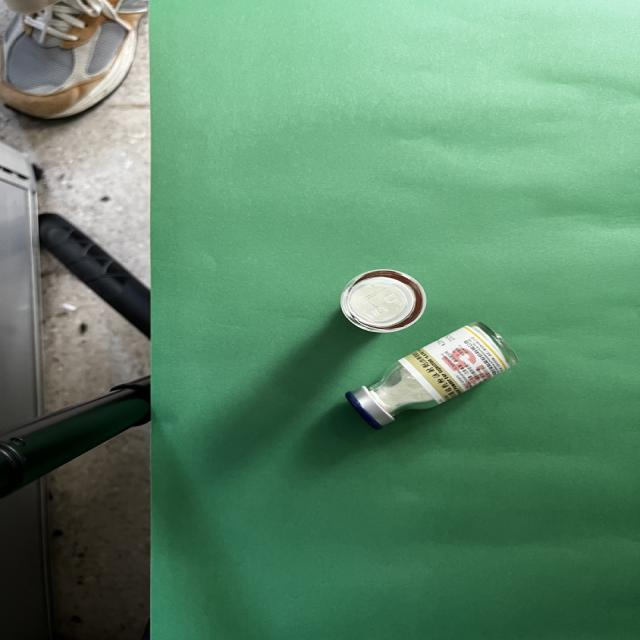Vials: (345, 322, 516, 429), (340, 270, 426, 332)
